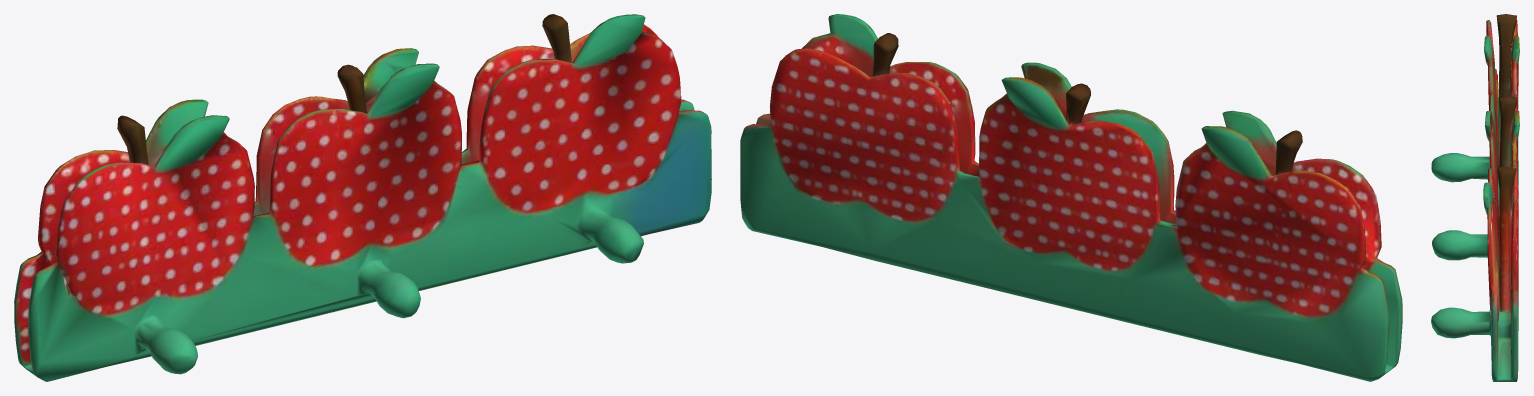
The model's file is cloth-handler.glb.
3 views of the same model, side by side, from view 1: azimuth 30°, elevation 25°; view 2: azimuth 150°, elevation 25°; view 3: azimuth 270°, elevation 25° (orthographic). The views are drawn at different scales.
Parts seen in each view (by area): view 1: material; view 2: material; view 3: material.
Part boxes in pixels (x1,y1,x2,y2): material: [14, 14, 711, 381]; material: [740, 14, 1402, 381]; material: [1431, 14, 1519, 381].
Size of the model in its own units: 1.15 by 0.3761 by 0.1792.
Materials: 1 (1 with a texture image).
